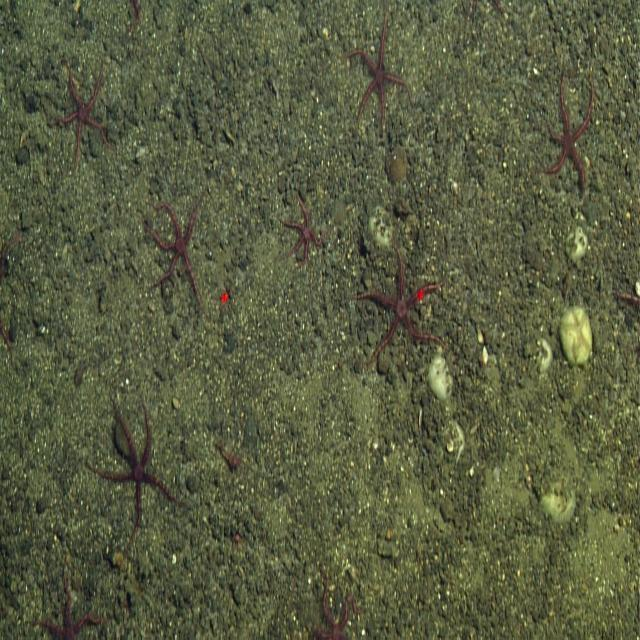Brittle Star: (88, 385, 184, 561), (277, 183, 324, 270)
Not Brittle Star: (557, 298, 596, 372), (211, 432, 245, 477)
